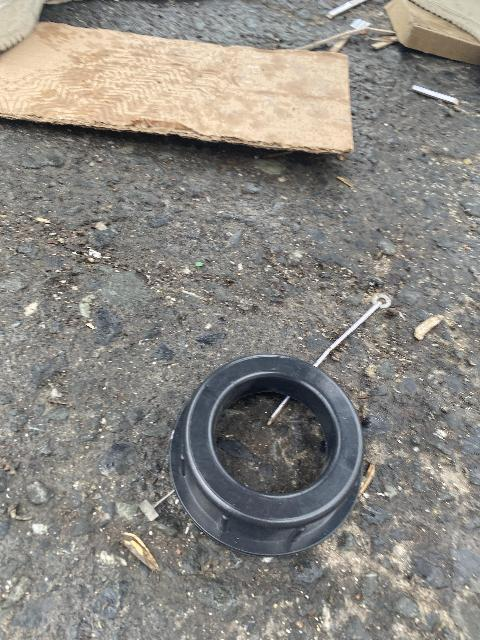Kagit: (0, 0, 362, 160), (402, 75, 468, 122), (413, 313, 449, 344)
Metal: (316, 298, 387, 362)
Plastik: (176, 360, 386, 546)
